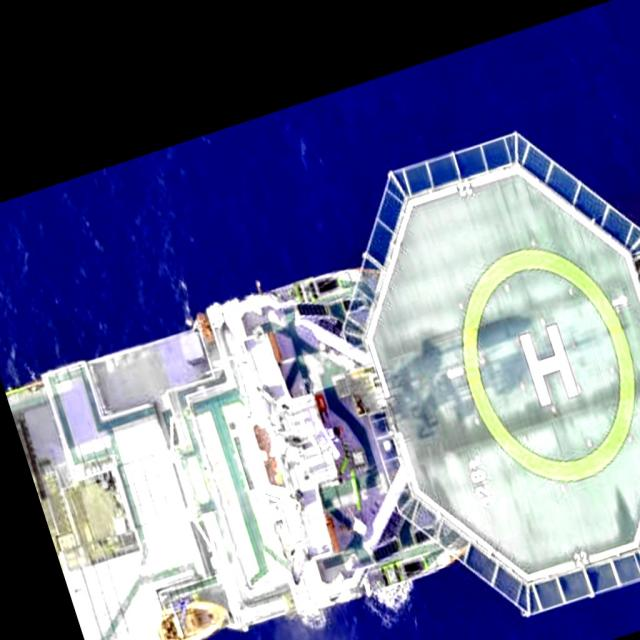helipad: (458, 243, 638, 486)
